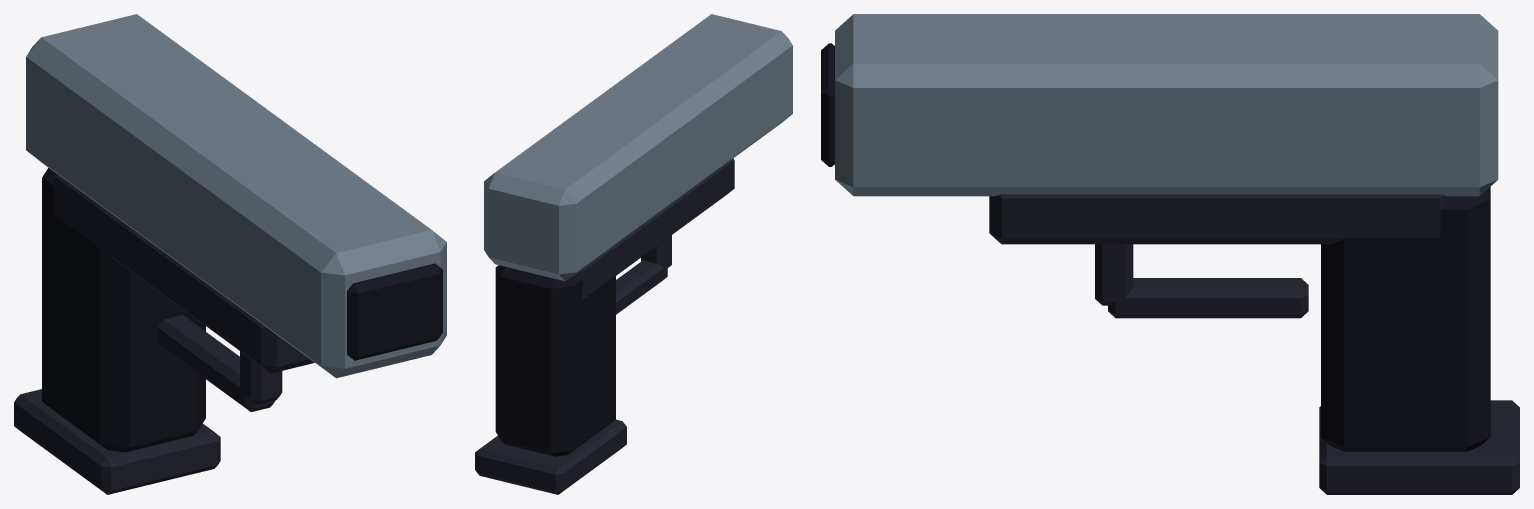
The model's file is cutaway-prop.glb.
3 views of the same model, side by side, from view 1: azimuth 30°, elevation 25°; view 2: azimuth 150°, elevation 25°; view 3: azimuth 270°, elevation 25° (orthographic). The views are drawn at different scales.
Visible parts, largest first — view 1: CutawayProp; view 2: CutawayProp; view 3: CutawayProp.
Boxes of the visible parts, x1,y1,x2,y2 form: CutawayProp: (14, 14, 446, 494); CutawayProp: (475, 14, 792, 494); CutawayProp: (821, 14, 1519, 494).
Size of the model in its own units: 0.1 by 0.3065 by 0.453.
